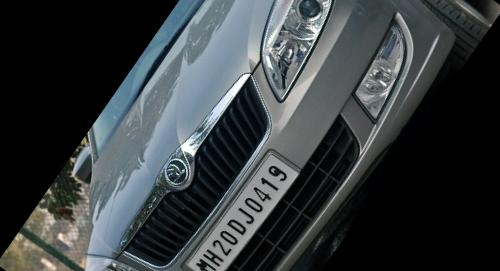plate: (175, 135, 315, 271)
